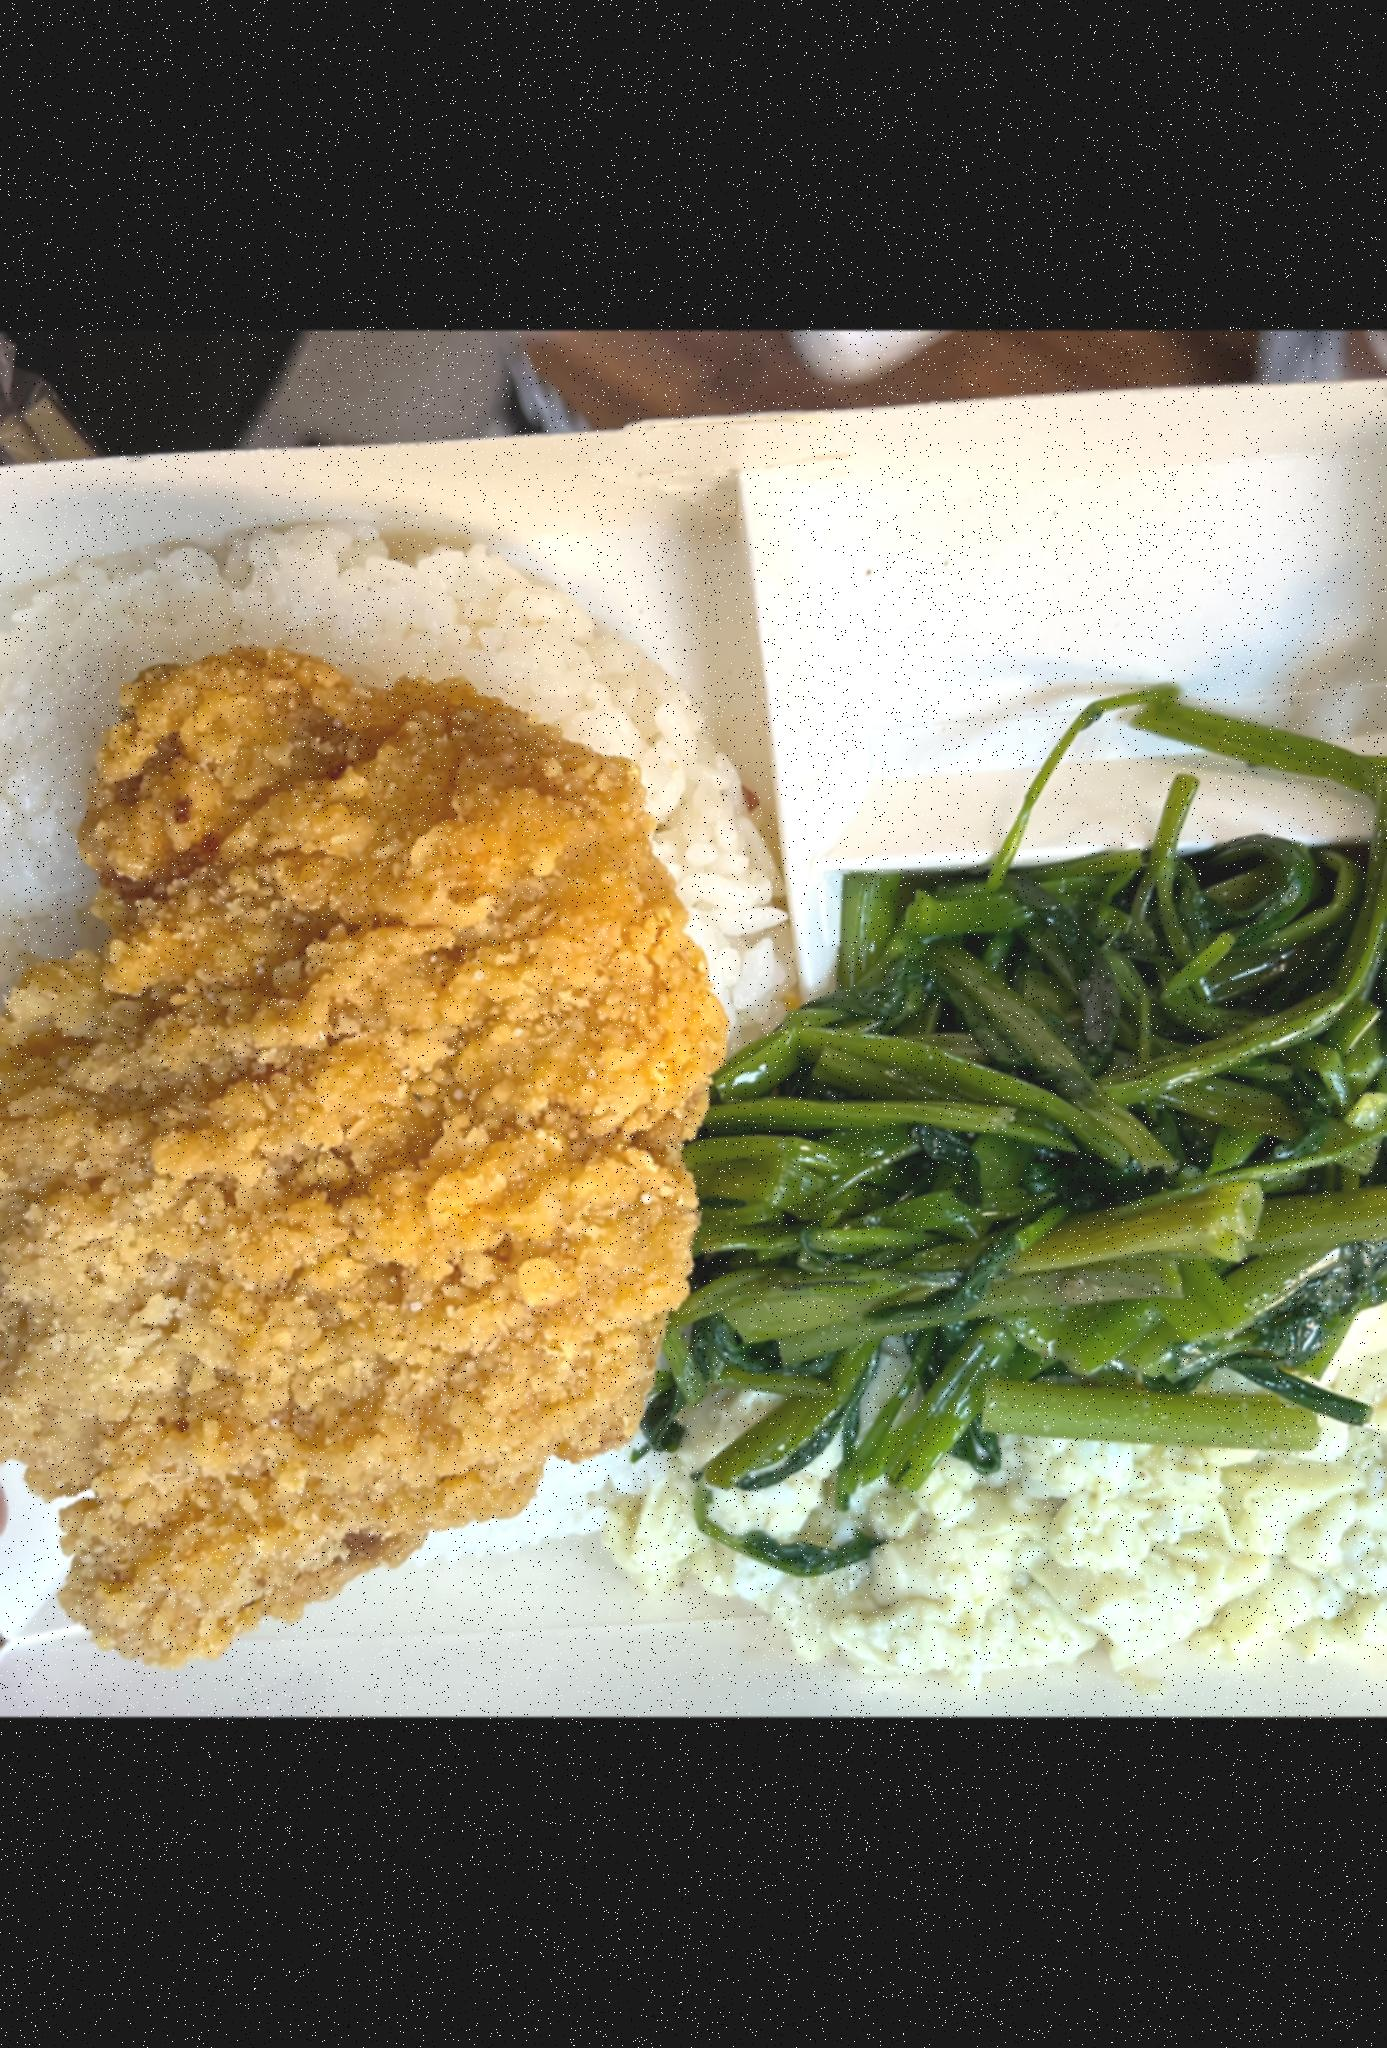box: (0, 334, 1387, 1666)
kara chicken leg steak: (0, 649, 731, 1666)
side dish: (678, 788, 1387, 1495), (721, 1268, 1387, 1673)
white rice: (0, 503, 789, 1574)
